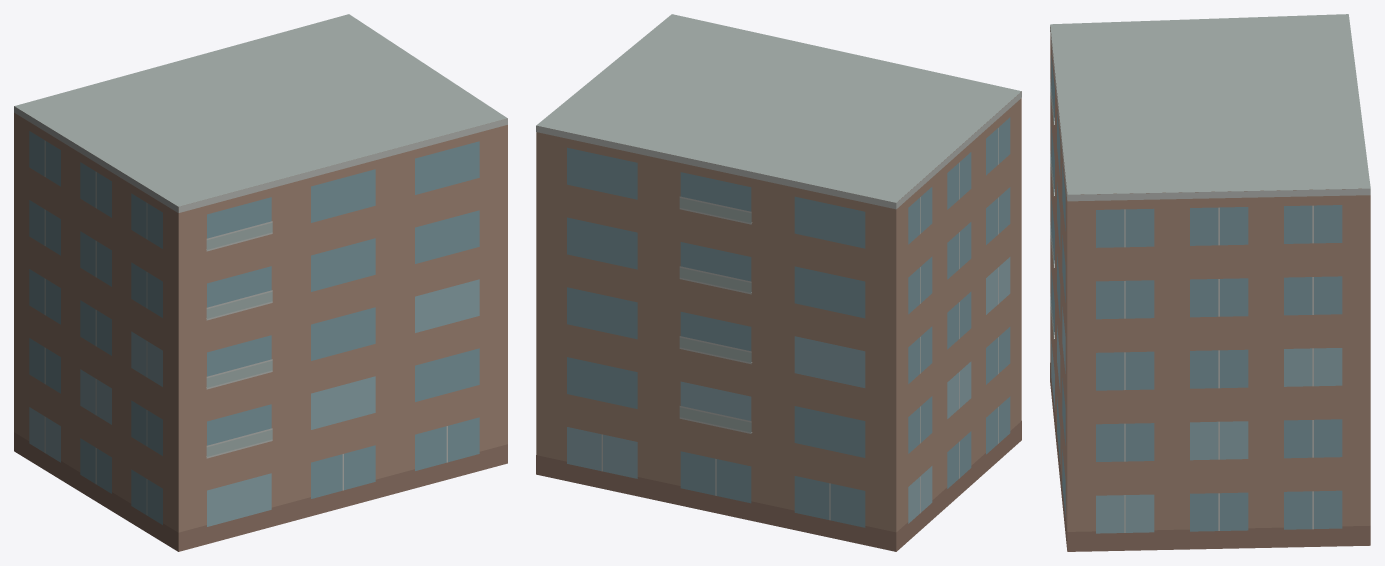
The model's file is survey-upis-33009043.glb.
The picture shows the model from 3 angles, left to right: view 1: azimuth 30°, elevation 25°; view 2: azimuth 150°, elevation 25°; view 3: azimuth 270°, elevation 25°; orthographic projection. The views are drawn at different scales.
Parts seen in each view (by area): view 1: survey-upis-33009043.tmp; view 2: survey-upis-33009043.tmp; view 3: survey-upis-33009043.tmp.
Boxes of the visible parts, left/top/right/bottom form: survey-upis-33009043.tmp: left=14, top=14, right=507, bottom=551; survey-upis-33009043.tmp: left=536, top=14, right=1021, bottom=551; survey-upis-33009043.tmp: left=1050, top=14, right=1370, bottom=551.
Size of the model in its own units: 14.22 by 13.1 by 10.67.
